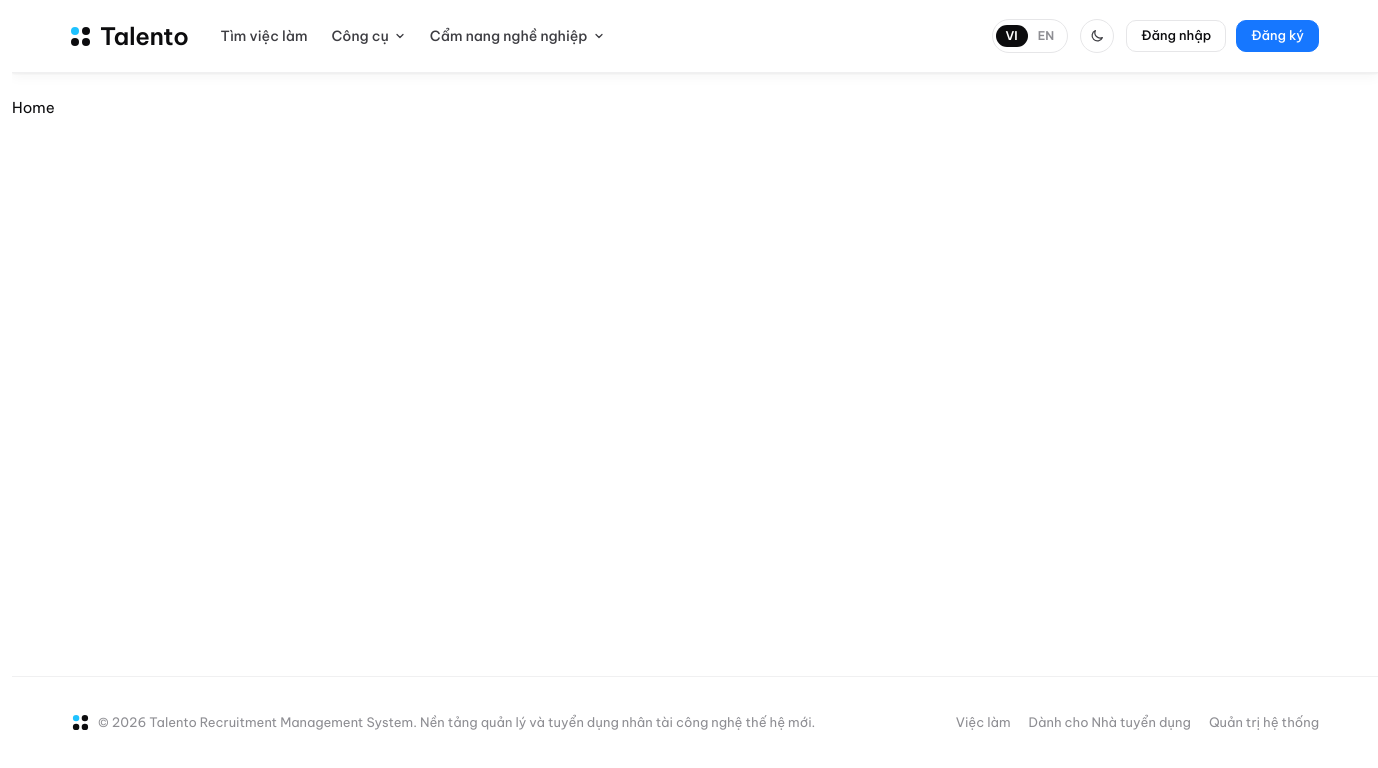
PublicLayout Header Navigation Role-Based Display › renders Career Handbook dropdown menu with categories and featured articles when clicked
Open menu
Click the button "Cẩm nang nghề nghiệp".
click(517, 36)  # box [430, 20, 604, 52]
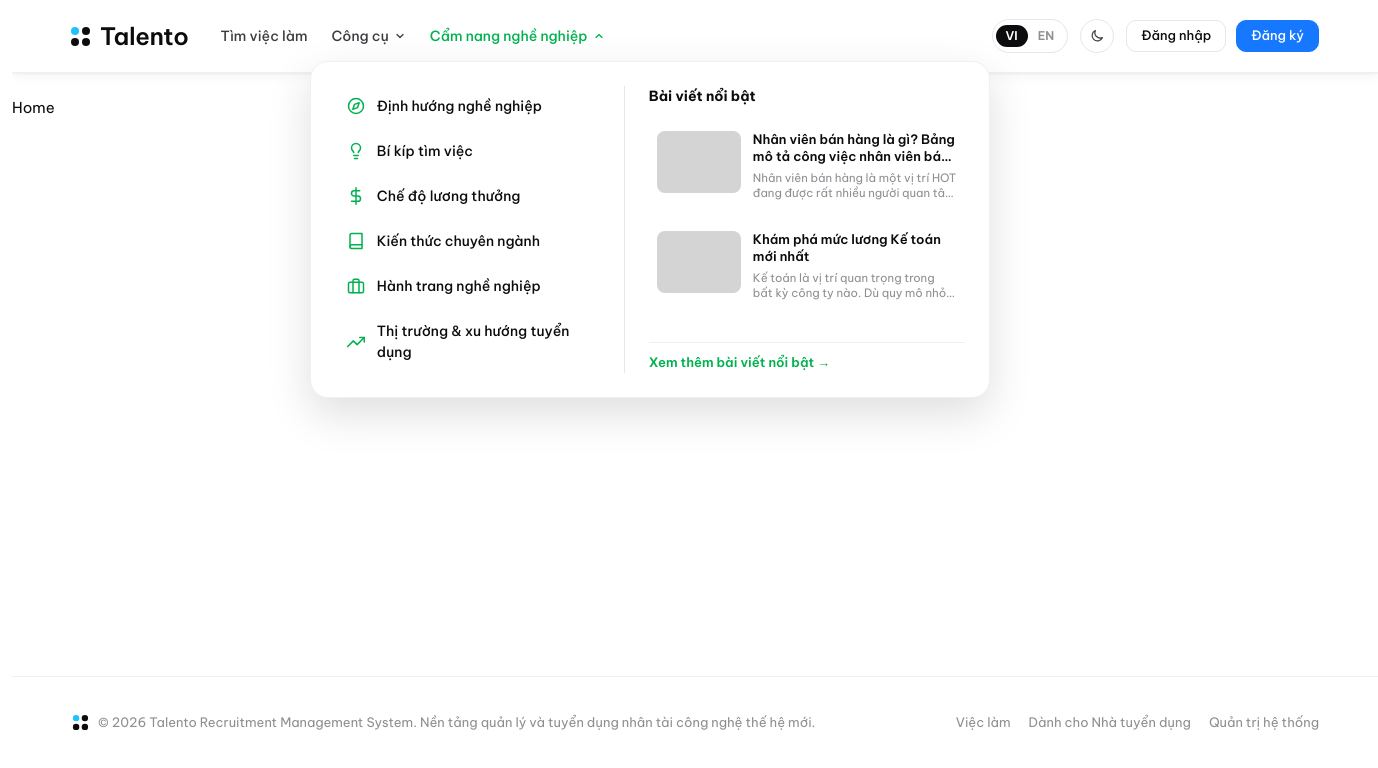
Now the text "Định hướng nghề nghiệp" is shown, box [377, 96, 542, 116]
Now the text "Bí kíp tìm việc" is shown, box [377, 140, 473, 162]
Now the text "Chế độ lương thưởng" is shown, box [377, 186, 520, 206]
